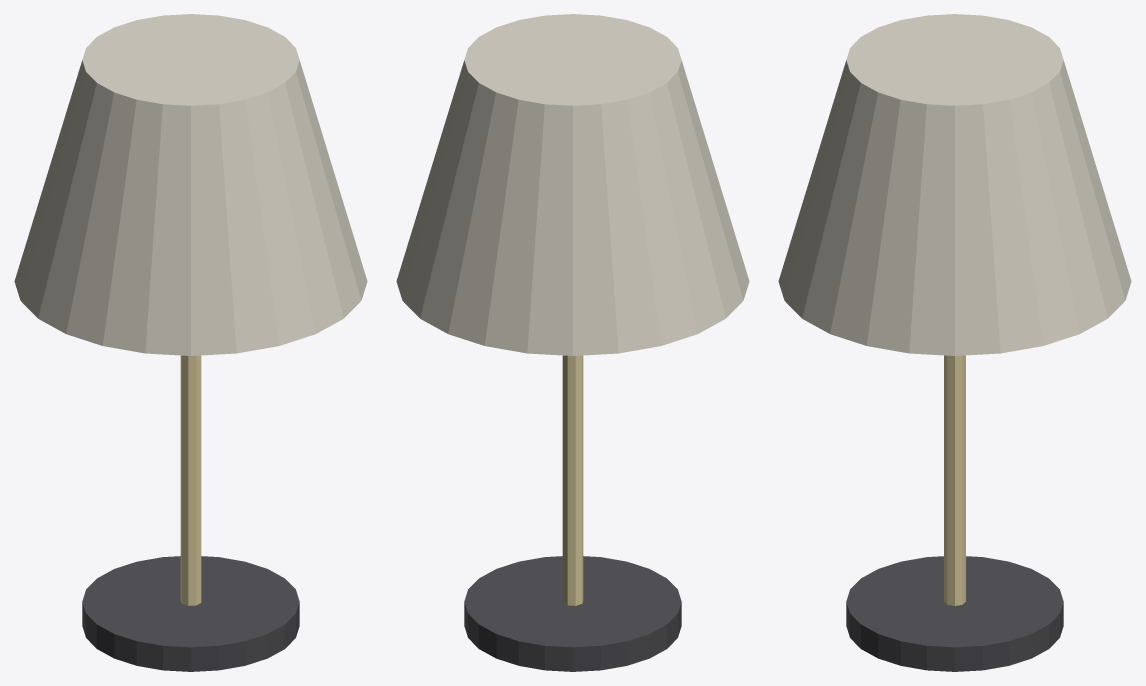
The model's file is lamp.glb.
3 renders of one model, left to right at view 1: azimuth 30°, elevation 25°; view 2: azimuth 150°, elevation 25°; view 3: azimuth 270°, elevation 25°, orthographic.
Visible parts, largest first — view 1: shade, base, stem; view 2: shade, base, stem; view 3: shade, base, stem.
Boxes of the visible parts, bbox=[...] form: shade: bbox=[14, 14, 367, 355]; base: bbox=[82, 556, 299, 671]; stem: bbox=[180, 355, 201, 605]; shade: bbox=[396, 14, 749, 355]; base: bbox=[464, 556, 681, 671]; stem: bbox=[562, 355, 583, 605]; shade: bbox=[778, 14, 1131, 355]; base: bbox=[846, 556, 1063, 671]; stem: bbox=[944, 355, 965, 605].
Size of the model in its own units: 0.26 by 0.46 by 0.26.
